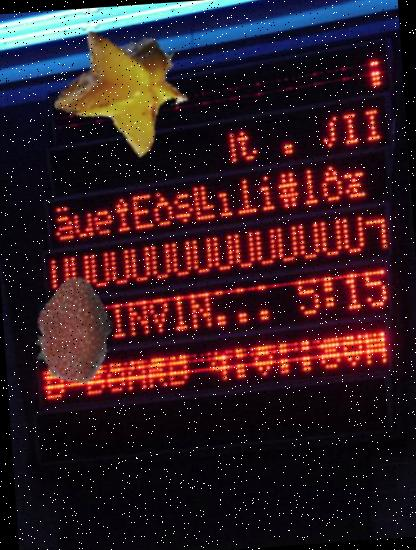Carambula: (52, 15, 196, 159)
Strawberry: (17, 272, 132, 387)
